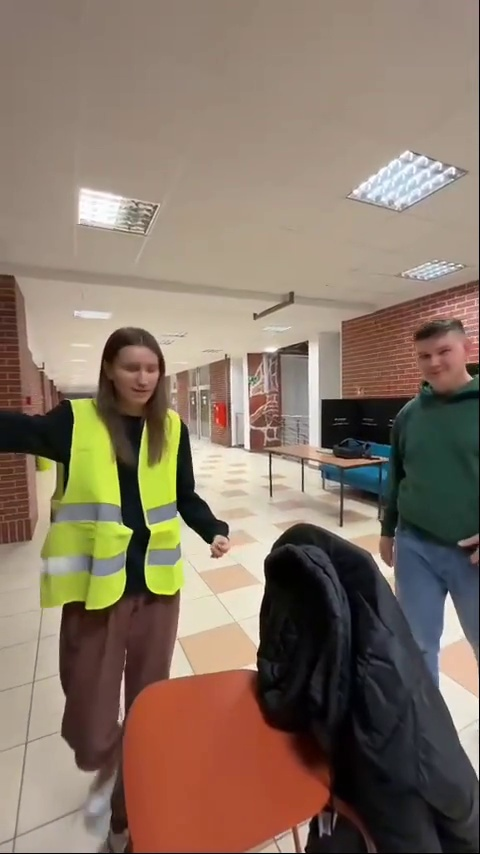no vest: (370, 318, 480, 683)
vest: (35, 319, 207, 830)
